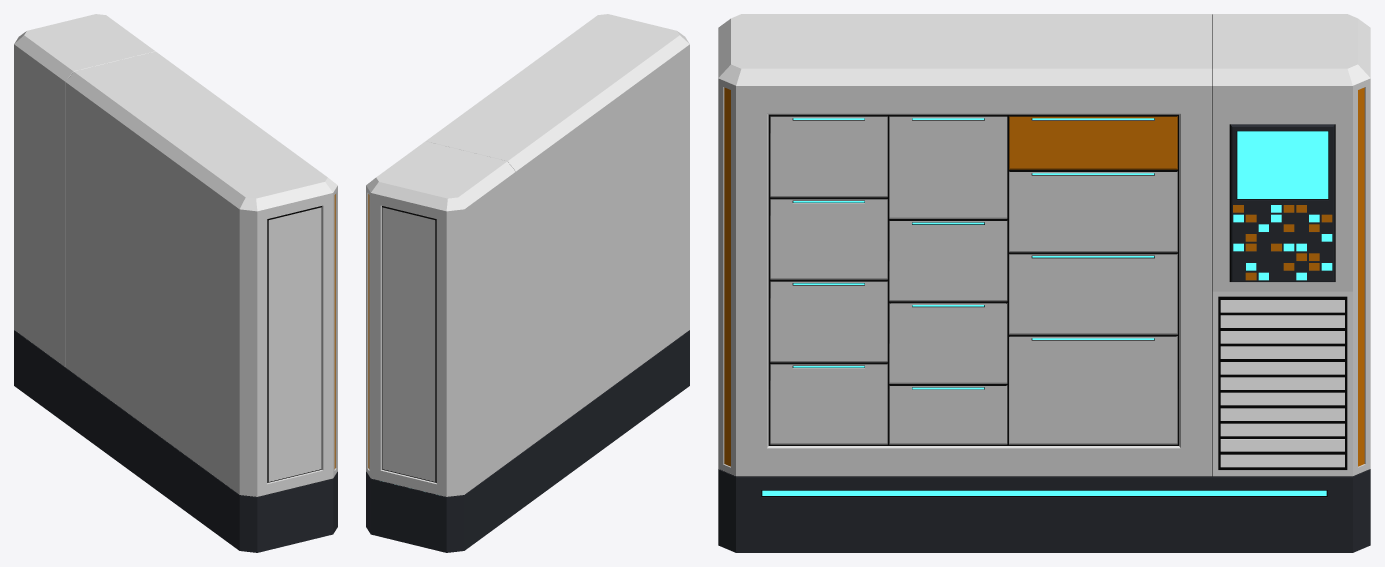
The model's file is SM_Parcel_Locker.fbx.
3 renders of one model, left to right at view 1: azimuth 30°, elevation 25°; view 2: azimuth 150°, elevation 25°; view 3: azimuth 270°, elevation 25°, orthographic. The views are drawn at different scales.
Parts seen in each view (by area): view 1: SM_Parcel_Locker; view 2: SM_Parcel_Locker; view 3: SM_Parcel_Locker.
Part boxes in pixels (left/top/right/bottom): SM_Parcel_Locker: left=14, top=14, right=337, bottom=552; SM_Parcel_Locker: left=366, top=14, right=689, bottom=552; SM_Parcel_Locker: left=718, top=14, right=1370, bottom=552.
Size of the model in its own units: 50.39 by 170 by 210.
